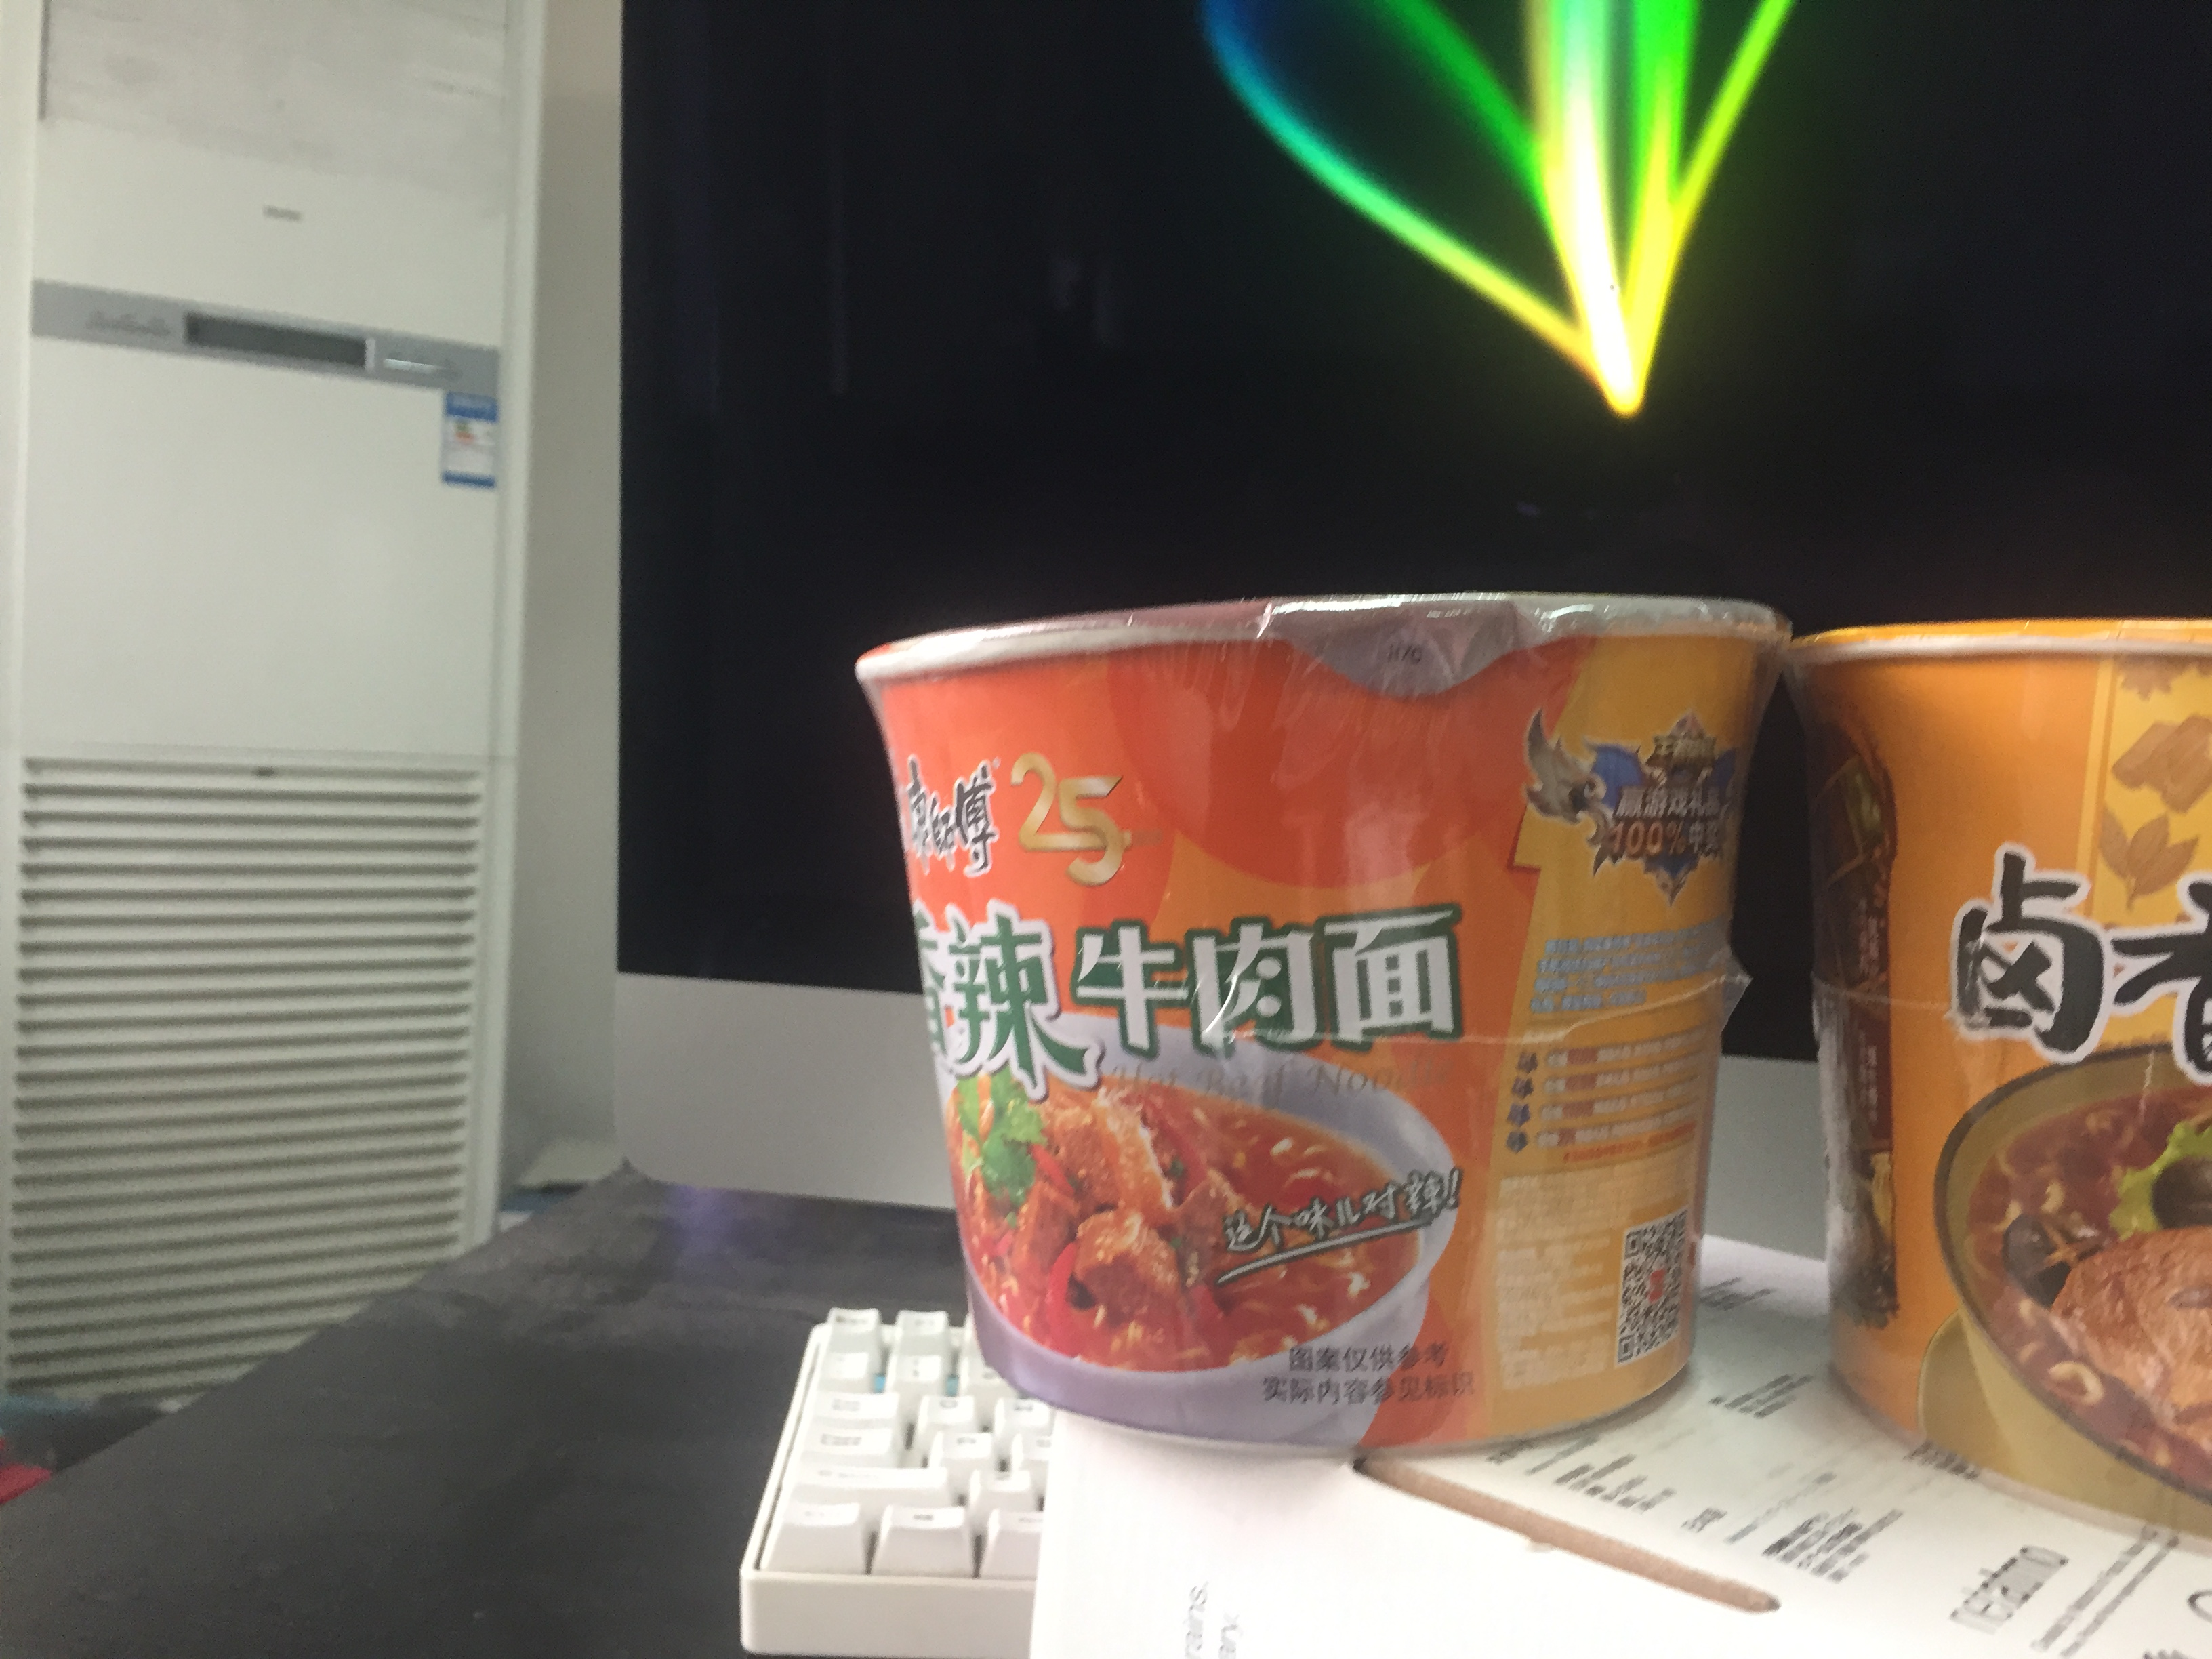luxiang: (1784, 617, 2212, 1560)
xiangla: (852, 591, 1794, 1467)
